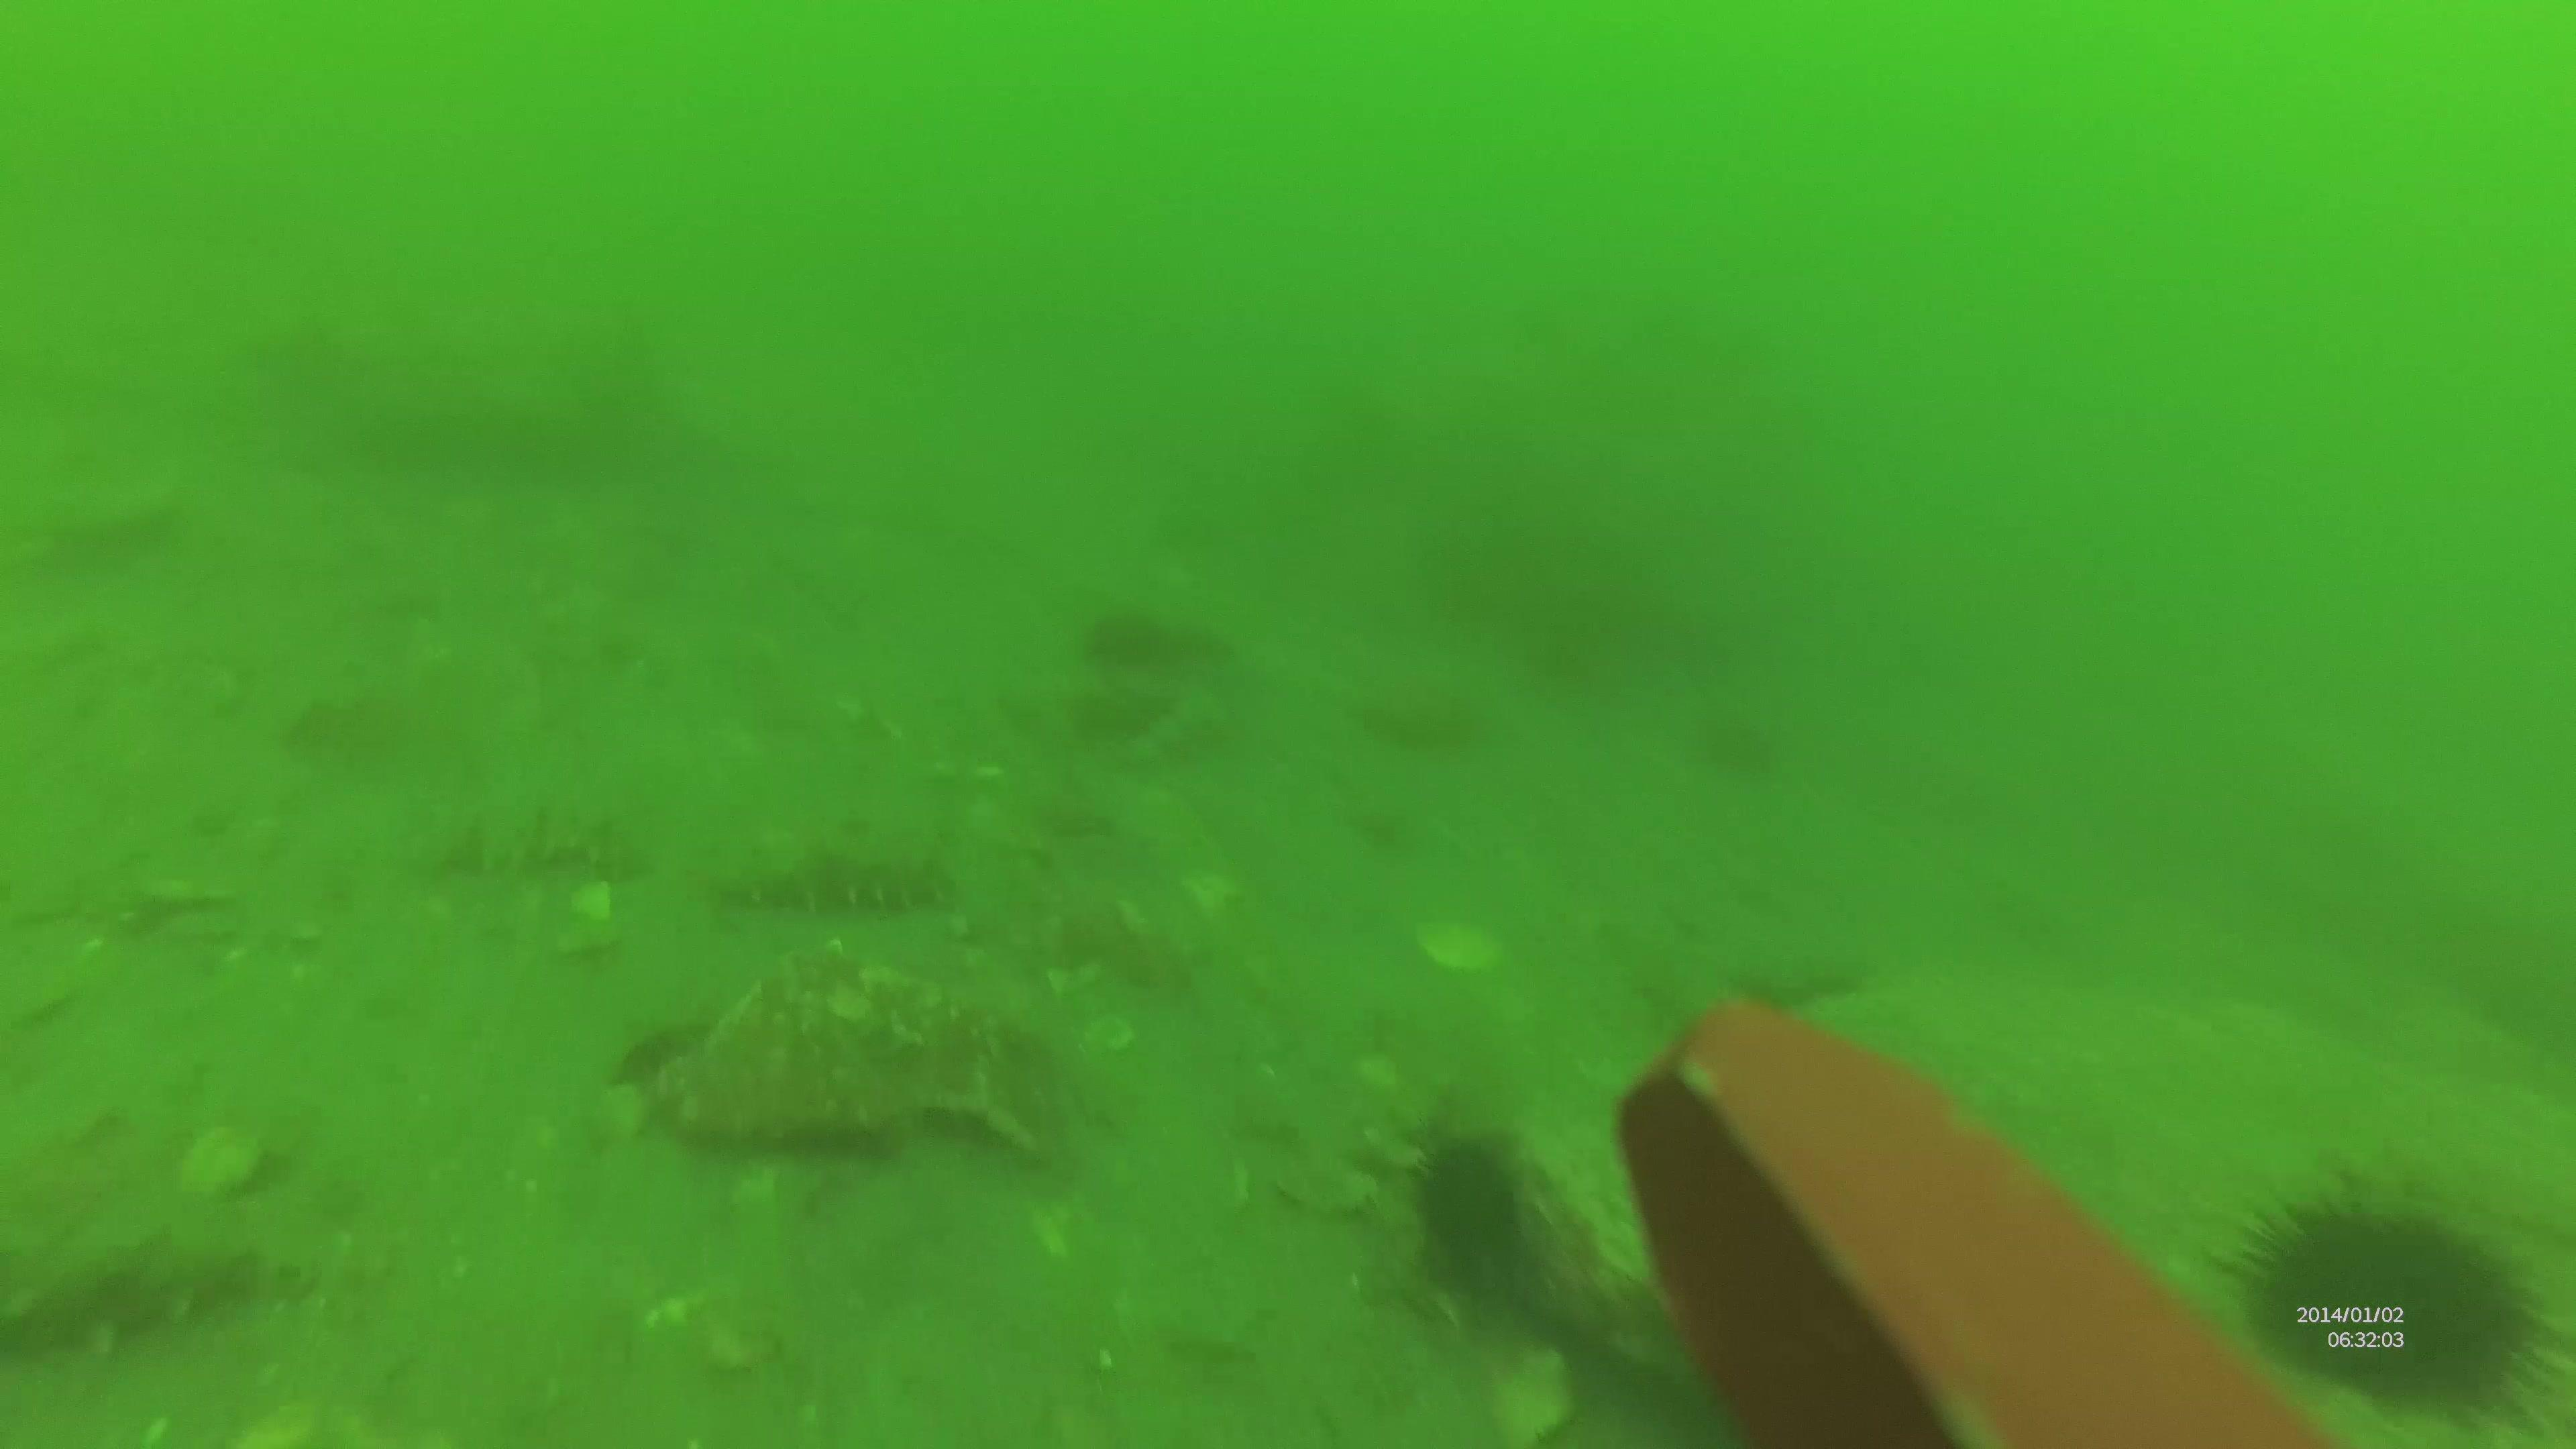echinus: (2229, 1185, 2564, 1422), (1405, 1131, 1523, 1297)
holothurian: (0, 1228, 329, 1355), (425, 796, 663, 892), (717, 828, 948, 920)
